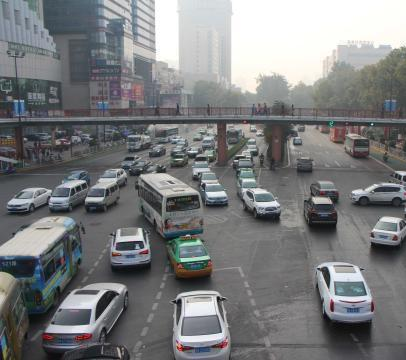bus: (1, 214, 85, 316), (134, 172, 203, 239), (1, 271, 31, 360), (343, 133, 370, 158), (156, 126, 180, 143)
car: (40, 281, 128, 356), (169, 290, 232, 358), (315, 261, 375, 322), (165, 234, 213, 281), (108, 227, 150, 272), (48, 179, 89, 214), (350, 183, 406, 207), (243, 187, 282, 220), (6, 188, 53, 214), (369, 215, 406, 248), (83, 181, 120, 213), (302, 196, 338, 227), (309, 180, 340, 203), (201, 183, 229, 207), (96, 168, 127, 189), (61, 170, 90, 188), (237, 178, 259, 201), (128, 160, 153, 176), (191, 161, 213, 179), (200, 172, 220, 190), (120, 155, 142, 170), (389, 171, 406, 190), (296, 156, 314, 173), (236, 167, 256, 182), (169, 154, 188, 168), (148, 146, 166, 159), (233, 154, 248, 169), (194, 153, 210, 165), (185, 146, 202, 157), (170, 145, 186, 156), (245, 144, 259, 156), (202, 137, 215, 149), (171, 136, 184, 144), (293, 137, 302, 146), (192, 134, 203, 141)
